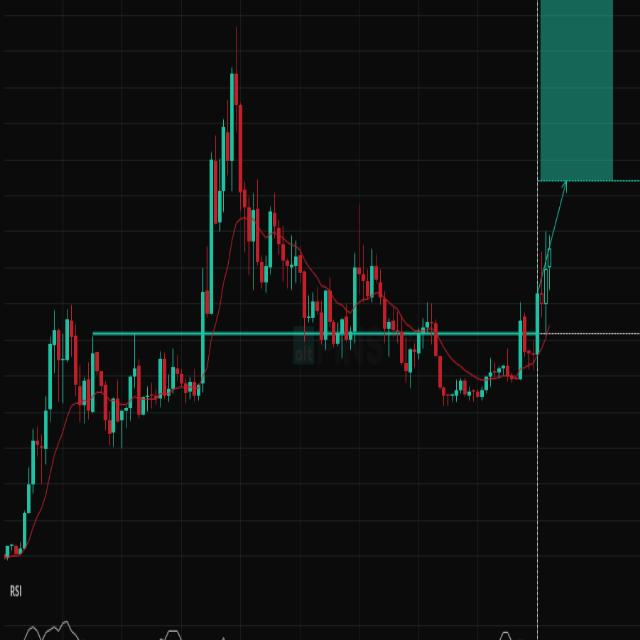Resistance-breakout: (17, 21, 235, 558)
